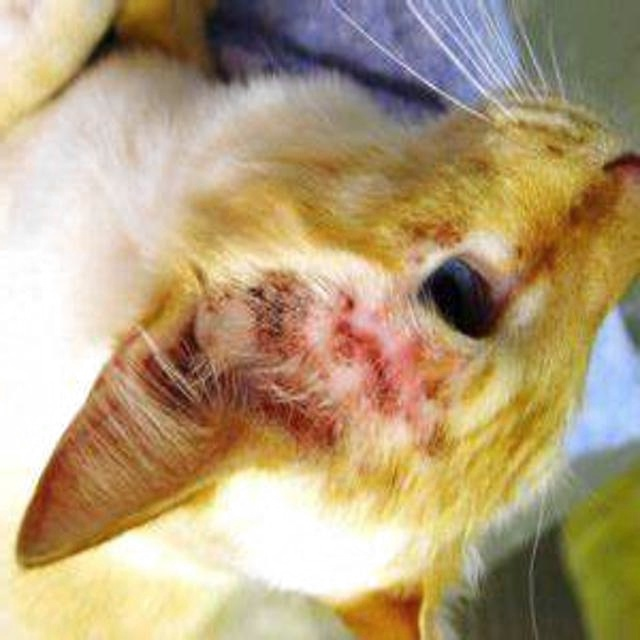ringworm: (237, 275, 474, 462)
